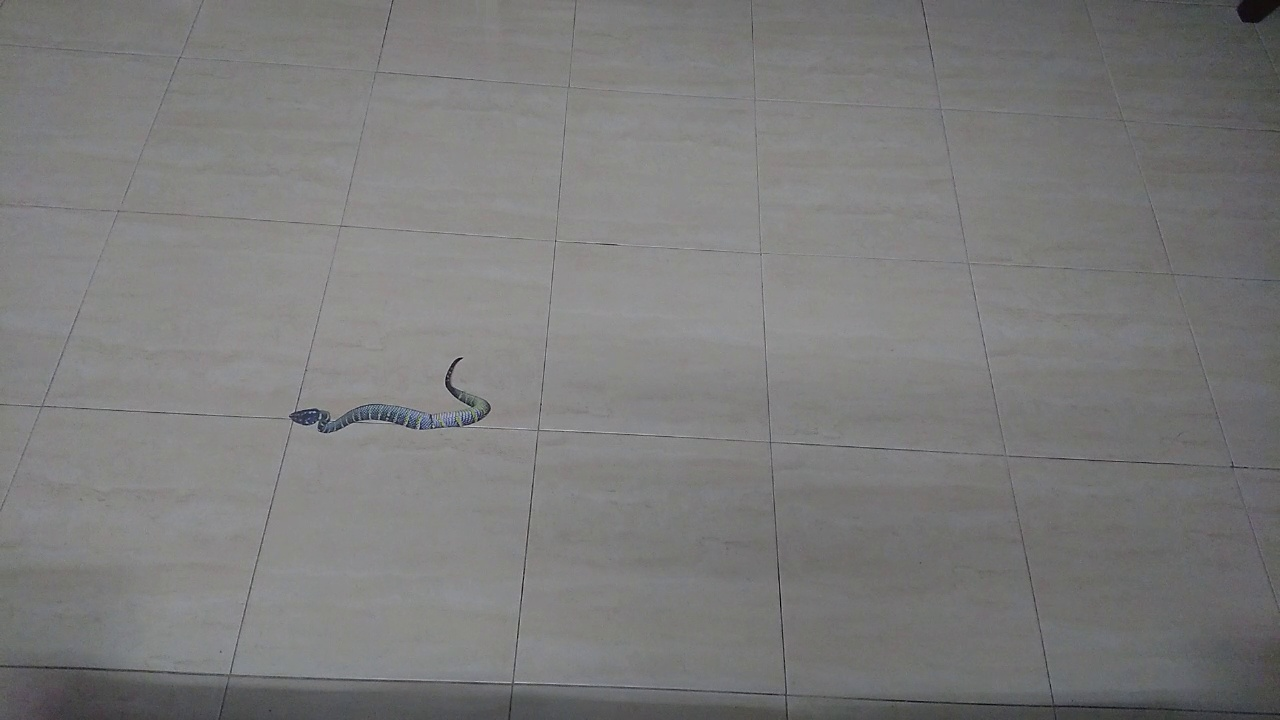snake: (274, 345, 508, 446)
